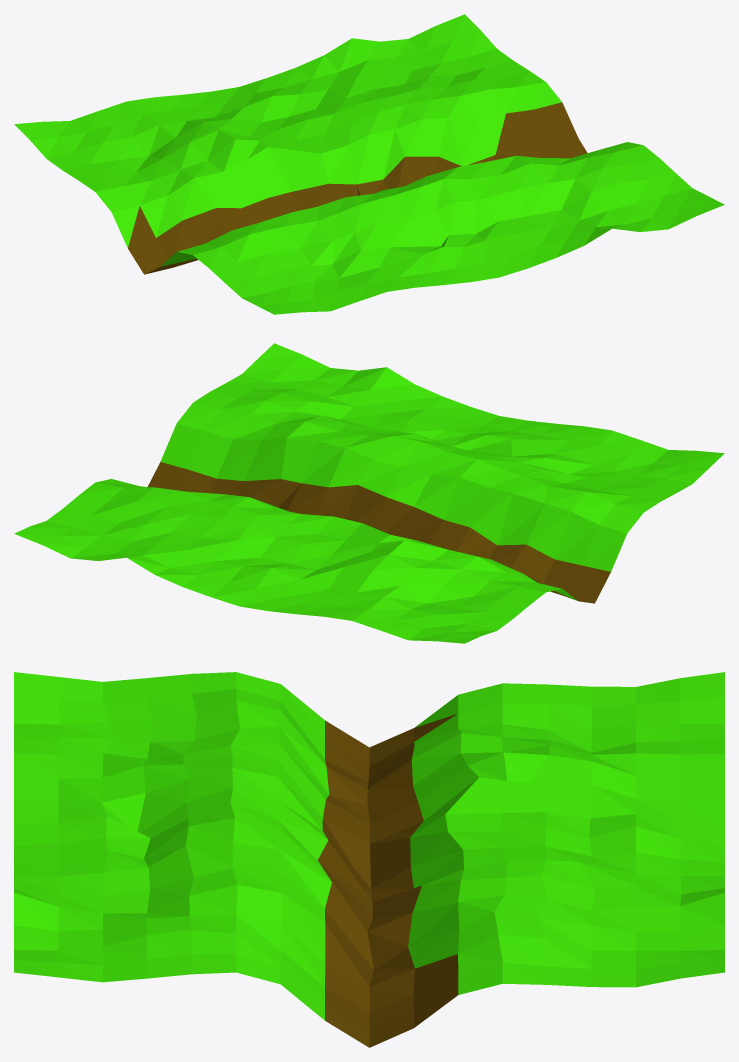
The model's file is oja_top_1.fbx.
The picture shows the model from 3 angles, top to bottom: view 1: azimuth 30°, elevation 25°; view 2: azimuth 150°, elevation 25°; view 3: azimuth 270°, elevation 25°; orthographic projection. The views are drawn at different scales.
Visible parts, largest first — view 1: oja_T_1; view 2: oja_T_1; view 3: oja_T_1.
Part boxes in pixels (x1,y1,x2,y2): oja_T_1: [14, 14, 724, 314]; oja_T_1: [14, 343, 724, 643]; oja_T_1: [14, 672, 724, 1047].
Size of the model in its own units: 2000 by 309 by 2000.
